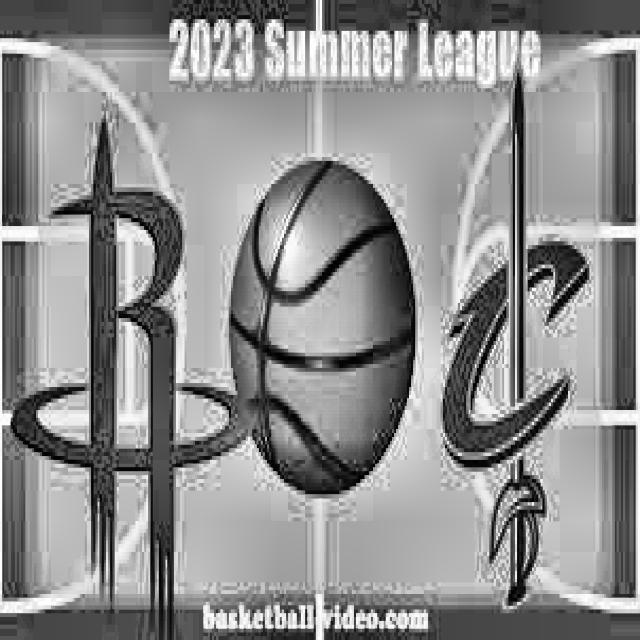Basketball: (231, 161, 417, 496)
